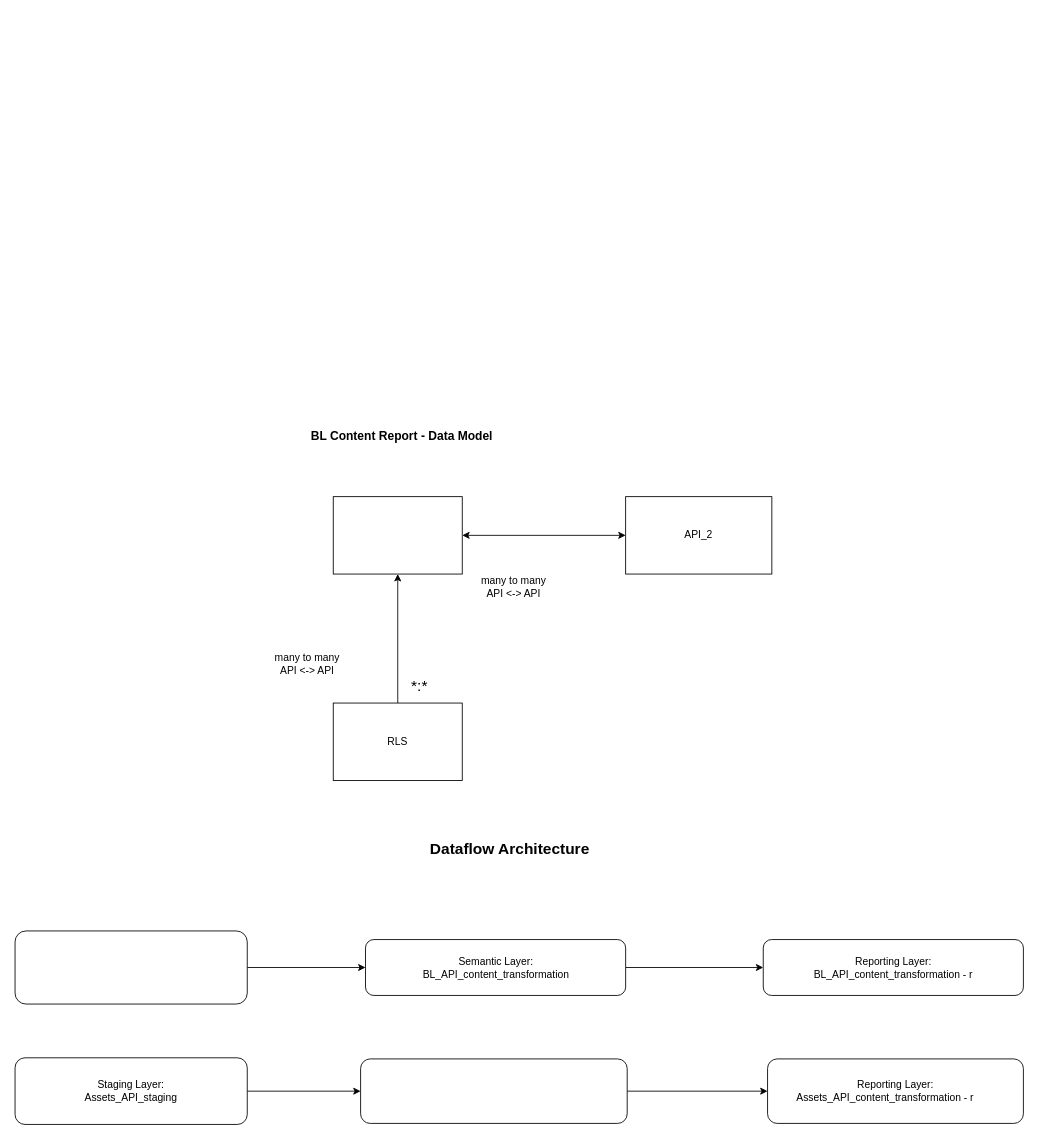
Some shapes in this 1039 by 1140 pixel diagram are drawn without their labels. Each missing label, with the centre of its shape:
"API_1" goes at pixel 397 535.
"Semantic Layer: Assets_API_content_transformation" goes at pixel 493 1090.
"Staging Layer: BL_API_staging" goes at pixel 130 967.
